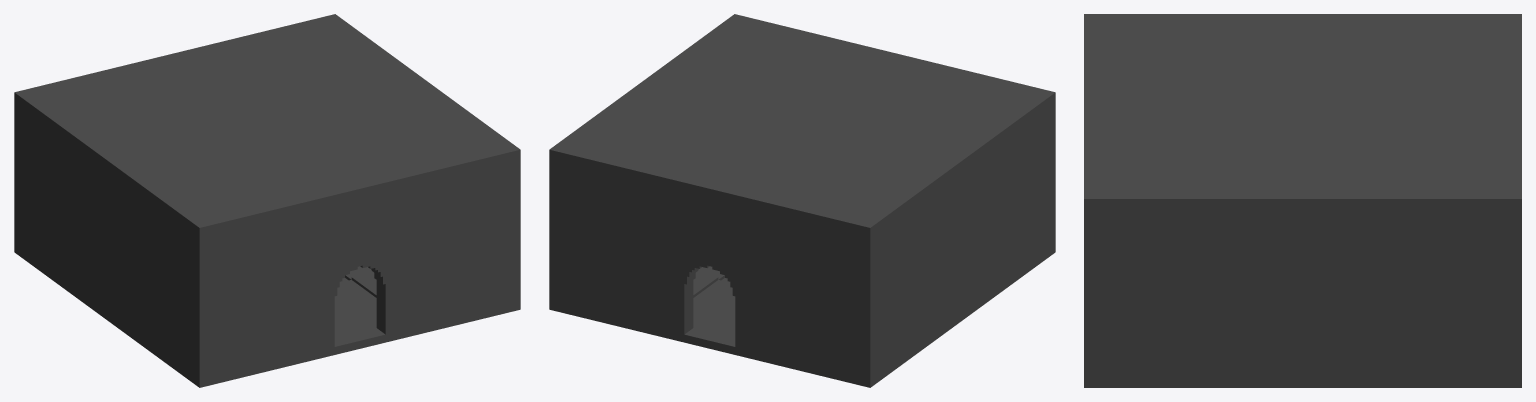
Rendered from Area2.obj.
3 renders of one model, left to right at view 1: azimuth 30°, elevation 25°; view 2: azimuth 150°, elevation 25°; view 3: azimuth 270°, elevation 25°, orthographic. The views are drawn at different scales.
Size of the model in its own units: 126 by 60 by 126.
1 material, 1 textured.
